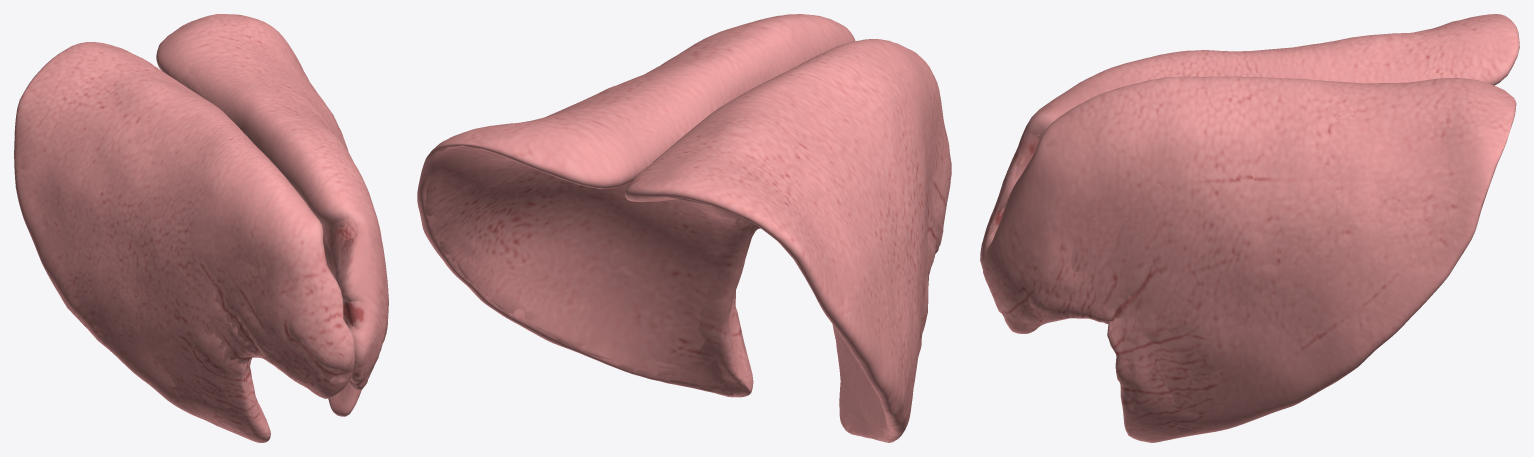
Rendered from Lungs.fbx.
3 renders of one model, left to right at view 1: azimuth 30°, elevation 25°; view 2: azimuth 150°, elevation 25°; view 3: azimuth 270°, elevation 25°, orthographic. The views are drawn at different scales.
Parts seen in each view (by area): view 1: Lungs high, Lungs, Lungs low; view 2: Lungs high, Lungs low, Lungs; view 3: Lungs high, Lungs, Lungs low.
Boxes of the visible parts, bbox=[...] form: Lungs high: bbox=[14, 14, 388, 442]; Lungs: bbox=[15, 14, 388, 437]; Lungs low: bbox=[21, 33, 362, 422]; Lungs high: bbox=[417, 14, 951, 442]; Lungs low: bbox=[422, 49, 947, 440]; Lungs: bbox=[418, 15, 950, 442]; Lungs high: bbox=[980, 14, 1519, 442]; Lungs: bbox=[985, 18, 1511, 440]; Lungs low: bbox=[993, 29, 1486, 427].
Size of the model in its own units: 51.33 by 47.03 by 63.95.
1 material, 1 textured.
